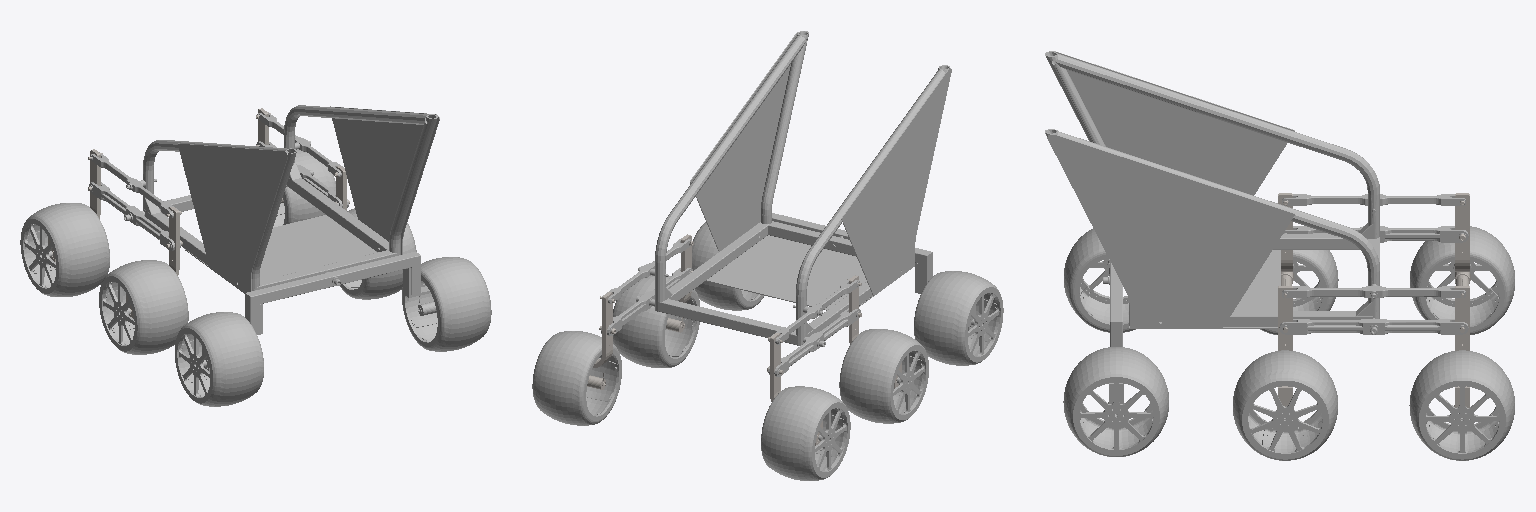
robot.urdf — surus_sim:
<robot
  name="surus_sim">
  <link
    name="base_link">
    <inertial>
      <origin
        xyz="9.82193319266849E-08 -0.148833260016138 0.156634090644278"
        rpy="0 0 0" />
      <mass
        value="4.88149894403649" />
      <inertia
        ixx="0.261848694573195"
        ixy="-5.97878684396749E-07"
        ixz="3.50817156323505E-07"
        iyy="0.242019497800058"
        iyz="-0.0511772435866289"
        izz="0.320854825813323" />
    </inertial>
    <visual>
      <origin
        xyz="0 0 0"
        rpy="0 0 0" />
      <geometry>
        <mesh
          filename="package://surus_sim/meshes/base_link.STL" />
      </geometry>
      <material
        name="">
        <color
          rgba="0.752941176470588 0.752941176470588 0.752941176470588 1" />
      </material>
    </visual>
    <collision>
      <origin
        xyz="0 0 0"
        rpy="0 0 0" />
      <geometry>
        <mesh
          filename="package://surus_sim/meshes/base_link.STL" />
      </geometry>
    </collision>
  </link>
  <link
    name="right_top_link">
    <inertial>
      <origin
        xyz="9.7470236984365E-06 -0.0099999998642917 0.0127031635553053"
        rpy="0 0 0" />
      <mass
        value="0.221531862132748" />
      <inertia
        ixx="1.23672558056935E-05"
        ixy="-3.22317463086043E-12"
        ixz="1.4490750349923E-08"
        iyy="0.00271813585004663"
        iyz="2.51895441538164E-13"
        izz="0.00271468493193684" />
    </inertial>
    <visual>
      <origin
        xyz="0 0 0"
        rpy="0 0 0" />
      <geometry>
        <mesh
          filename="package://surus_sim/meshes/right_top_link.STL" />
      </geometry>
      <material
        name="">
        <color
          rgba="0.752941176470588 0.752941176470588 0.752941176470588 1" />
      </material>
    </visual>
    <collision>
      <origin
        xyz="0 0 0"
        rpy="0 0 0" />
      <geometry>
        <mesh
          filename="package://surus_sim/meshes/right_top_link.STL" />
      </geometry>
    </collision>
  </link>
  <joint
    name="right_top_joint"
    type="continuous">
    <origin
      xyz="0.206375 0.18732500000002 0.0811859999999602"
      rpy="-1.5707963267949 -6.12303176911189E-17 -1.5707963267949" />
    <parent
      link="base_link" />
    <child
      link="right_top_link" />
    <axis
      xyz="0 0 -1" />
  </joint>
  <link
    name="right_vert_back_link">
    <inertial>
      <origin
        xyz="1.31677898114971E-05 0.118452372698074 0.0508879429867681"
        rpy="0 0 0" />
      <mass
        value="0.380720963545255" />
      <inertia
        ixx="0.00241154927917191"
        ixy="4.34520360774505E-07"
        ixz="9.45520964851515E-08"
        iyy="0.000727662784614012"
        iyz="0.000788556002308595"
        izz="0.00174115566404689" />
    </inertial>
    <visual>
      <origin
        xyz="0 0 0"
        rpy="0 0 0" />
      <geometry>
        <mesh
          filename="package://surus_sim/meshes/right_vert_back_link.STL" />
      </geometry>
      <material
        name="">
        <color
          rgba="0.776470588235294 0.756862745098039 0.737254901960784 1" />
      </material>
    </visual>
    <collision>
      <origin
        xyz="0 0 0"
        rpy="0 0 0" />
      <geometry>
        <mesh
          filename="package://surus_sim/meshes/right_vert_back_link.STL" />
      </geometry>
    </collision>
  </link>
  <joint
    name="right_vert_top_back_joint"
    type="continuous">
    <origin
      xyz="0.177800000000035 0 0"
      rpy="0 0 0" />
    <parent
      link="right_top_link" />
    <child
      link="right_vert_back_link" />
    <axis
      xyz="0 0 -1" />
  </joint>
  <link
    name="right_mid_wheel">
    <inertial>
      <origin
        xyz="2.72670774847938E-11 -3.83840945139546E-11 0.0766076583377891"
        rpy="0 0 0" />
      <mass
        value="1.06272538271914" />
      <inertia
        ixx="0.00658869981582713"
        ixy="-2.96402876201474E-12"
        ixz="2.67377176488536E-10"
        iyy="0.0065886998158272"
        iyz="1.89767801766998E-10"
        izz="0.00854794820795915" />
    </inertial>
    <visual>
      <origin
        xyz="0 0 0"
        rpy="0 0 0" />
      <geometry>
        <mesh
          filename="package://surus_sim/meshes/right_mid_wheel.STL" />
      </geometry>
      <material
        name="">
        <color
          rgba="0.752941176470588 0.752941176470588 0.752941176470588 1" />
      </material>
    </visual>
    <collision>
      <origin
        xyz="0 0 0"
        rpy="0 0 0" />
      <geometry>
        <mesh
          filename="package://surus_sim/meshes/right_mid_wheel.STL" />
      </geometry>
    </collision>
  </link>
  <joint
    name="mid_wheel_joint"
    type="continuous">
    <origin
      xyz="0.000124999999984637 0.205138000000034 0.0258499999996897"
      rpy="0 0 -1.17899991460401" />
    <parent
      link="right_vert_back_link" />
    <child
      link="right_mid_wheel" />
    <axis
      xyz="0 0 -1" />
  </joint>
  <link
    name="right_vert_front_link">
    <inertial>
      <origin
        xyz="1.31677898289051E-05 0.118452372698434 0.0508879429867684"
        rpy="0 0 0" />
      <mass
        value="0.380720963545255" />
      <inertia
        ixx="0.00241154927917196"
        ixy="4.34520360778227E-07"
        ixz="9.45520964883728E-08"
        iyy="0.000727662784613814"
        iyz="0.000788556002308602"
        izz="0.00174115566404674" />
    </inertial>
    <visual>
      <origin
        xyz="0 0 0"
        rpy="0 0 0" />
      <geometry>
        <mesh
          filename="package://surus_sim/meshes/right_vert_front_link.STL" />
      </geometry>
      <material
        name="">
        <color
          rgba="0.776470588235294 0.756862745098039 0.737254901960784 1" />
      </material>
    </visual>
    <collision>
      <origin
        xyz="0 0 0"
        rpy="0 0 0" />
      <geometry>
        <mesh
          filename="package://surus_sim/meshes/right_vert_front_link.STL" />
      </geometry>
    </collision>
  </link>
  <joint
    name="right_vert_top_front_joint"
    type="continuous">
    <origin
      xyz="-0.177799999999981 0 0"
      rpy="0 0 0" />
    <parent
      link="right_top_link" />
    <child
      link="right_vert_front_link" />
    <axis
      xyz="0 0 -1" />
  </joint>
  <link
    name="right_front_wheel">
    <inertial>
      <origin
        xyz="2.70902189569711E-11 -3.84988707580192E-11 0.0766076583377889"
        rpy="0 0 0" />
      <mass
        value="1.06272538271914" />
      <inertia
        ixx="0.00658869981582712"
        ixy="-2.96428080235537E-12"
        ixz="2.67377217853618E-10"
        iyy="0.00658869981582719"
        iyz="1.89767797836564E-10"
        izz="0.00854794820795914" />
    </inertial>
    <visual>
      <origin
        xyz="0 0 0"
        rpy="0 0 0" />
      <geometry>
        <mesh
          filename="package://surus_sim/meshes/right_front_wheel.STL" />
      </geometry>
      <material
        name="">
        <color
          rgba="0.752941176470588 0.752941176470588 0.752941176470588 1" />
      </material>
    </visual>
    <collision>
      <origin
        xyz="0 0 0"
        rpy="0 0 0" />
      <geometry>
        <mesh
          filename="package://surus_sim/meshes/right_front_wheel.STL" />
      </geometry>
    </collision>
  </link>
  <joint
    name="right_front_wheel_joint"
    type="continuous">
    <origin
      xyz="0.000125000000000042 0.205138 0.0258499999996902"
      rpy="0 0 3.14159265358979" />
    <parent
      link="right_vert_front_link" />
    <child
      link="right_front_wheel" />
    <axis
      xyz="0 0 -1" />
  </joint>
  <link
    name="right_bot_link">
    <inertial>
      <origin
        xyz="9.02039125473819E-05 -1.18182778425374E-06 0.0126880012263361"
        rpy="0 0 0" />
      <mass
        value="0.431669670198118" />
      <inertia
        ixx="3.69944022478026E-05"
        ixy="-1.50093043496301E-07"
        ixz="-1.23836476995637E-07"
        iyy="0.00497321992410225"
        iyz="7.9505021700584E-09"
        izz="0.00497491167813756" />
    </inertial>
    <visual>
      <origin
        xyz="0 0 0"
        rpy="0 0 0" />
      <geometry>
        <mesh
          filename="package://surus_sim/meshes/right_bot_link.STL" />
      </geometry>
      <material
        name="">
        <color
          rgba="0.752941176470588 0.752941176470588 0.752941176470588 1" />
      </material>
    </visual>
    <collision>
      <origin
        xyz="0 0 0"
        rpy="0 0 0" />
      <geometry>
        <mesh
          filename="package://surus_sim/meshes/right_bot_link.STL" />
      </geometry>
    </collision>
  </link>
  <joint
    name="right_bot_joint"
    type="continuous">
    <origin
      xyz="0.206375 0.187325 0.014986"
      rpy="1.5707963267949 6.12303176911189E-17 1.5707963267949" />
    <parent
      link="base_link" />
    <child
      link="right_bot_link" />
    <axis
      xyz="0 0 -1" />
  </joint>
  <link
    name="left_top_link">
    <inertial>
      <origin
        xyz="9.74702366940416E-06 -1.35766869968634E-10 -0.0127031635553051"
        rpy="0 0 0" />
      <mass
        value="0.221531862132748" />
      <inertia
        ixx="1.23672558056936E-05"
        ixy="3.22032868212492E-12"
        ixz="-1.44907503503423E-08"
        iyy="0.00271813585004663"
        iyz="2.51895457132026E-13"
        izz="0.00271468493193684" />
    </inertial>
    <visual>
      <origin
        xyz="0 0 0"
        rpy="0 0 0" />
      <geometry>
        <mesh
          filename="package://surus_sim/meshes/left_top_link.STL" />
      </geometry>
      <material
        name="">
        <color
          rgba="0.752941176470588 0.752941176470588 0.752941176470588 1" />
      </material>
    </visual>
    <collision>
      <origin
        xyz="0 0 0"
        rpy="0 0 0" />
      <geometry>
        <mesh
          filename="package://surus_sim/meshes/left_top_link.STL" />
      </geometry>
    </collision>
  </link>
  <joint
    name="left_top_link_joint"
    type="continuous">
    <origin
      xyz="-0.20638 0.18733 0.091186"
      rpy="1.5708 6.123E-17 1.5708" />
    <parent
      link="base_link" />
    <child
      link="left_top_link" />
    <axis
      xyz="0 0 -1" />
  </joint>
  <link
    name="left_vert_back_link">
    <inertial>
      <origin
        xyz="0.118723869954623 -0.0490372810033095 -0.0508879429867682"
        rpy="0 0 0" />
      <mass
        value="0.380720963545255" />
      <inertia
        ixx="0.000972881728684984"
        ixy="-0.000593960206080673"
        ixz="-0.000728838954737058"
        iyy="0.00216633033510108"
        iyz="0.000301022184854895"
        izz="0.00174115566404703" />
    </inertial>
    <visual>
      <origin
        xyz="0 0 0"
        rpy="0 0 0" />
      <geometry>
        <mesh
          filename="package://surus_sim/meshes/left_vert_back_link.STL" />
      </geometry>
      <material
        name="">
        <color
          rgba="0.776470588235294 0.756862745098039 0.737254901960784 1" />
      </material>
    </visual>
    <collision>
      <origin
        xyz="0 0 0"
        rpy="0 0 0" />
      <geometry>
        <mesh
          filename="package://surus_sim/meshes/left_vert_back_link.STL" />
      </geometry>
    </collision>
  </link>
  <joint
    name="left_vert_back_top_joint"
    type="continuous">
    <origin
      xyz="-0.1778 0 0"
      rpy="0 0 -1.179" />
    <parent
      link="left_top_link" />
    <child
      link="left_vert_back_link" />
    <axis
      xyz="0 0 -1" />
  </joint>
  <link
    name="left_mid_wheel">
    <inertial>
      <origin
        xyz="2.70922867473544E-11 -3.83118536895211E-11 0.0766076583377893"
        rpy="0 0 0" />
      <mass
        value="1.06272538271914" />
      <inertia
        ixx="0.00658869981582717"
        ixy="-2.9640285451743E-12"
        ixz="2.67377170056209E-10"
        iyy="0.00658869981582722"
        iyz="1.89767798677059E-10"
        izz="0.00854794820795918" />
    </inertial>
    <visual>
      <origin
        xyz="0 0 0"
        rpy="0 0 0" />
      <geometry>
        <mesh
          filename="package://surus_sim/meshes/left_mid_wheel.STL" />
      </geometry>
      <material
        name="">
        <color
          rgba="0.752941176470588 0.752941176470588 0.752941176470588 1" />
      </material>
    </visual>
    <collision>
      <origin
        xyz="0 0 0"
        rpy="0 0 0" />
      <geometry>
        <mesh
          filename="package://surus_sim/meshes/left_mid_wheel.STL" />
      </geometry>
    </collision>
  </link>
  <joint
    name="left_mid_wheel_joint"
    type="continuous">
    <origin
      xyz="0.198883561596939 -0.0820347706495037 -0.0258499999996897"
      rpy="3.14159265358979 0 -2.78551494975313" />
    <parent
      link="left_vert_back_link" />
    <child
      link="left_mid_wheel" />
    <axis
      xyz="0 0 1" />
  </joint>
  <link
    name="left_vert_front_link">
    <inertial>
      <origin
        xyz="-0.118723869954625 0.0390372810033101 -0.0508879429867681"
        rpy="0 0 0" />
      <mass
        value="0.380720963545254" />
      <inertia
        ixx="0.000972881728684736"
        ixy="-0.000593960206080778"
        ixz="0.000728838954737056"
        iyy="0.00216633033510103"
        iyz="-0.000301022184854893"
        izz="0.00174115566404674" />
    </inertial>
    <visual>
      <origin
        xyz="0 0 0"
        rpy="0 0 0" />
      <geometry>
        <mesh
          filename="package://surus_sim/meshes/left_vert_front_link.STL" />
      </geometry>
      <material
        name="">
        <color
          rgba="0.776470588235294 0.756862745098039 0.737254901960784 1" />
      </material>
    </visual>
    <collision>
      <origin
        xyz="0 0 0"
        rpy="0 0 0" />
      <geometry>
        <mesh
          filename="package://surus_sim/meshes/left_vert_front_link.STL" />
      </geometry>
    </collision>
  </link>
  <joint
    name="left_vert_front_top_joint"
    type="continuous">
    <origin
      xyz="0.16856 -0.0038185 0"
      rpy="0 0 1.9626" />
    <parent
      link="left_top_link" />
    <child
      link="left_vert_front_link" />
    <axis
      xyz="0 0 -1" />
  </joint>
  <link
    name="left_front_wheel">
    <inertial>
      <origin
        xyz="2.71475064650417E-11 3.83120896119138E-11 -0.0766076583377888"
        rpy="0 0 0" />
      <mass
        value="1.06272538271914" />
      <inertia
        ixx="0.00658869981582711"
        ixy="2.96402792567821E-12"
        ixz="-2.67376492703237E-10"
        iyy="0.00658869981582718"
        iyz="1.89767789967385E-10"
        izz="0.0085479482079591" />
    </inertial>
    <visual>
      <origin
        xyz="0 0 0"
        rpy="0 0 0" />
      <geometry>
        <mesh
          filename="package://surus_sim/meshes/left_front_wheel.STL" />
      </geometry>
      <material
        name="">
        <color
          rgba="0.752941176470588 0.752941176470588 0.752941176470588 1" />
      </material>
    </visual>
    <collision>
      <origin
        xyz="0 0 0"
        rpy="0 0 0" />
      <geometry>
        <mesh
          filename="package://surus_sim/meshes/left_front_wheel.STL" />
      </geometry>
    </collision>
  </link>
  <joint
    name="left_front_wheel_joint"
    type="continuous">
    <origin
      xyz="-0.19888 0.072035 -0.02585"
      rpy="0 0 1.179" />
    <parent
      link="left_vert_front_link" />
    <child
      link="left_front_wheel" />
    <axis
      xyz="0 0 -1" />
  </joint>
  <link
    name="left_bot_link">
    <inertial>
      <origin
        xyz="9.02039125482146E-05 -0.00999881817220523 -0.0126880012263361"
        rpy="0 0 0" />
      <mass
        value="0.431669670198118" />
      <inertia
        ixx="3.69944022478023E-05"
        ixy="1.50093038585745E-07"
        ixz="1.23836476995717E-07"
        iyy="0.00497321992410226"
        iyz="7.95050216994382E-09"
        izz="0.00497491167813756" />
    </inertial>
    <visual>
      <origin
        xyz="0 0 0"
        rpy="0 0 0" />
      <geometry>
        <mesh
          filename="package://surus_sim/meshes/left_bot_link.STL" />
      </geometry>
      <material
        name="">
        <color
          rgba="0.752941176470588 0.752941176470588 0.752941176470588 1" />
      </material>
    </visual>
    <collision>
      <origin
        xyz="0 0 0"
        rpy="0 0 0" />
      <geometry>
        <mesh
          filename="package://surus_sim/meshes/left_bot_link.STL" />
      </geometry>
    </collision>
  </link>
  <joint
    name="left_bot_joint"
    type="continuous">
    <origin
      xyz="-0.20638 0.18733 0.004986"
      rpy="-1.5708 -6.123E-17 -1.5708" />
    <parent
      link="base_link" />
    <child
      link="left_bot_link" />
    <axis
      xyz="0 0 -1" />
  </joint>
  <link
    name="rear_rocker_link">
    <inertial>
      <origin
        xyz="0.0158749095083329 0.0360769167874748 -4.28546923511225E-12"
        rpy="0 0 0" />
      <mass
        value="0.765248646616661" />
      <inertia
        ixx="0.0377415708032907"
        ixy="-5.21372003273793E-09"
        ixz="2.80741670333729E-06"
        iyy="0.0358433223743838"
        iyz="6.61444375881965E-10"
        izz="0.00202108443551124" />
    </inertial>
    <visual>
      <origin
        xyz="0 0 0"
        rpy="0 0 0" />
      <geometry>
        <mesh
          filename="package://surus_sim/meshes/rear_rocker_link.STL" />
      </geometry>
      <material
        name="">
        <color
          rgba="0.752941176470588 0.752941176470588 0.752941176470588 1" />
      </material>
    </visual>
    <collision>
      <origin
        xyz="0 0 0"
        rpy="0 0 0" />
      <geometry>
        <mesh
          filename="package://surus_sim/meshes/rear_rocker_link.STL" />
      </geometry>
    </collision>
  </link>
  <joint
    name="rear_rocker_joint"
    type="continuous">
    <origin
      xyz="0 -0.31433 0.004986"
      rpy="-1.5708 -6.123E-17 -1.5708" />
    <parent
      link="base_link" />
    <child
      link="rear_rocker_link" />
    <axis
      xyz="-1 0 0" />
  </joint>
  <link
    name="rear_right_wheel">
    <inertial>
      <origin
        xyz="2.70899414012149E-11 -3.83117287894308E-11 0.0766076583377892"
        rpy="0 0 0" />
      <mass
        value="1.06272538271914" />
      <inertia
        ixx="0.00658869981582715"
        ixy="-2.96427958259602E-12"
        ixz="2.67377205678769E-10"
        iyy="0.00658869981582722"
        iyz="1.89767797888414E-10"
        izz="0.0085479482079592" />
    </inertial>
    <visual>
      <origin
        xyz="0 0 0"
        rpy="0 0 0" />
      <geometry>
        <mesh
          filename="package://surus_sim/meshes/rear_right_wheel.STL" />
      </geometry>
      <material
        name="">
        <color
          rgba="0.752941176470588 0.752941176470588 0.752941176470588 1" />
      </material>
    </visual>
    <collision>
      <origin
        xyz="0 0 0"
        rpy="0 0 0" />
      <geometry>
        <mesh
          filename="package://surus_sim/meshes/rear_right_wheel.STL" />
      </geometry>
    </collision>
  </link>
  <joint
    name="rear_right_wheel_joint"
    type="continuous">
    <origin
      xyz="0.016002 0.12183 0.23064"
      rpy="-1.2246E-16 -6.123E-17 3.1416" />
    <parent
      link="rear_rocker_link" />
    <child
      link="rear_right_wheel" />
    <axis
      xyz="0 0 -1" />
  </joint>
  <link
    name="rear_left_wheel_link">
    <inertial>
      <origin
        xyz="2.71471733981343E-11 -0.00999999996168797 -0.0766076583377888"
        rpy="0 0 0" />
      <mass
        value="1.06272538271914" />
      <inertia
        ixx="0.00658869981582712"
        ixy="2.96402925406297E-12"
        ixz="-2.67376479017794E-10"
        iyy="0.0065886998158272"
        iyz="1.89767789582356E-10"
        izz="0.00854794820795912" />
    </inertial>
    <visual>
      <origin
        xyz="0 0 0"
        rpy="0 0 0" />
      <geometry>
        <mesh
          filename="package://surus_sim/meshes/rear_left_wheel_link.STL" />
      </geometry>
      <material
        name="">
        <color
          rgba="0.752941176470588 0.752941176470588 0.752941176470588 1" />
      </material>
    </visual>
    <collision>
      <origin
        xyz="0 0 0"
        rpy="0 0 0" />
      <geometry>
        <mesh
          filename="package://surus_sim/meshes/rear_left_wheel_link.STL" />
      </geometry>
    </collision>
  </link>
  <joint
    name="rear_left_wheel_joint"
    type="continuous">
    <origin
      xyz="0.015748 0.13183 -0.23064"
      rpy="1.2246E-16 6.123E-17 0" />
    <parent
      link="rear_rocker_link" />
    <child
      link="rear_left_wheel_link" />
    <axis
      xyz="0 0 -1" />
  </joint>
</robot>

--- Render facts (derived) ---
Views: 3 orthographic renders of the robot side by side, from view 1: azimuth 30°, elevation 25°; view 2: azimuth 150°, elevation 25°; view 3: azimuth 270°, elevation 25°.
Model surus_sim with 16 links and 15 joints (15 continuous), rooted at base_link, posed every joint at zero.
Visible links, largest first — view 1: base_link, rear_left_wheel_link, left_front_wheel, left_mid_wheel, rear_right_wheel, rear_rocker_link, right_front_wheel, right_mid_wheel, left_bot_link, left_top_link, right_top_link, left_vert_back_link (+2 smaller); view 2: base_link, left_front_wheel, left_mid_wheel, rear_left_wheel_link, right_front_wheel, right_mid_wheel, rear_right_wheel, rear_rocker_link, left_bot_link, right_vert_front_link, right_bot_link, left_top_link (+3 smaller); view 3: base_link, right_mid_wheel, rear_right_wheel, right_front_wheel, left_front_wheel, rear_left_wheel_link, right_bot_link, left_mid_wheel, right_top_link, left_top_link, left_bot_link, left_vert_front_link (+4 smaller).
Boxes of the visible links, <box> form: base_link: <box>124,105,439,293</box>; rear_left_wheel_link: <box>175,312,263,406</box>; left_front_wheel: <box>20,203,109,296</box>; left_mid_wheel: <box>99,260,188,354</box>; rear_right_wheel: <box>402,257,491,351</box>; rear_rocker_link: <box>202,251,436,371</box>; right_front_wheel: <box>273,149,335,227</box>; right_mid_wheel: <box>340,208,416,299</box>; left_bot_link: <box>89,182,180,250</box>; left_top_link: <box>90,152,180,217</box>; right_top_link: <box>257,112,343,177</box>; left_vert_back_link: <box>126,207,182,318</box>; base_link: <box>636,31,951,347</box>; left_front_wheel: <box>761,386,850,480</box>; left_mid_wheel: <box>839,329,928,423</box>; rear_left_wheel_link: <box>914,271,1003,365</box>; right_front_wheel: <box>532,331,621,425</box>; right_mid_wheel: <box>613,275,699,367</box>; rear_right_wheel: <box>692,222,763,310</box>; rear_rocker_link: <box>772,213,975,330</box>; left_bot_link: <box>768,308,860,376</box>; right_vert_front_link: <box>587,292,615,389</box>; right_bot_link: <box>601,268,692,335</box>; left_top_link: <box>769,279,859,344</box>; base_link: <box>1045,51,1379,334</box>; right_mid_wheel: <box>1233,350,1337,460</box>; rear_right_wheel: <box>1063,347,1168,456</box>; right_front_wheel: <box>1409,350,1514,460</box>; left_front_wheel: <box>1410,226,1514,334</box>; rear_left_wheel_link: <box>1064,228,1135,332</box>; right_bot_link: <box>1279,319,1468,334</box>; left_mid_wheel: <box>1260,250,1338,334</box>; right_top_link: <box>1282,286,1465,297</box>; left_top_link: <box>1282,194,1465,205</box>; left_bot_link: <box>1283,226,1468,242</box>; left_vert_front_link: <box>1455,193,1470,285</box>.
Bounding box of the posed robot: 0.7312 × 0.9465 × 0.6613 m (x, y, z).
Meshes: 16 distinct files referenced, 16 mesh visuals loaded (16 binary STL).